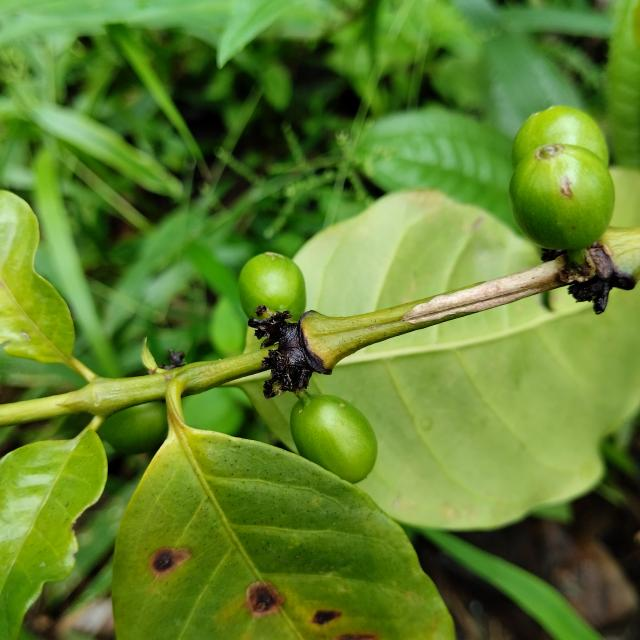green: (510, 143, 616, 250), (290, 395, 378, 484), (513, 105, 610, 168), (238, 252, 306, 322)
